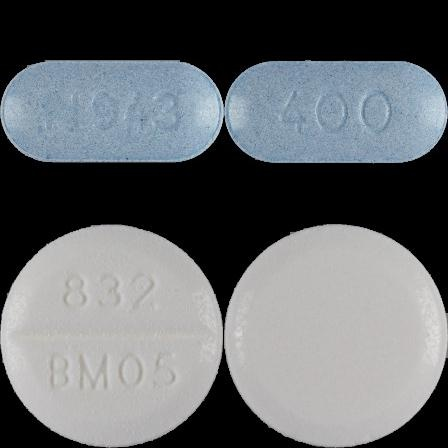53808-0821: (0, 0, 224, 224)
